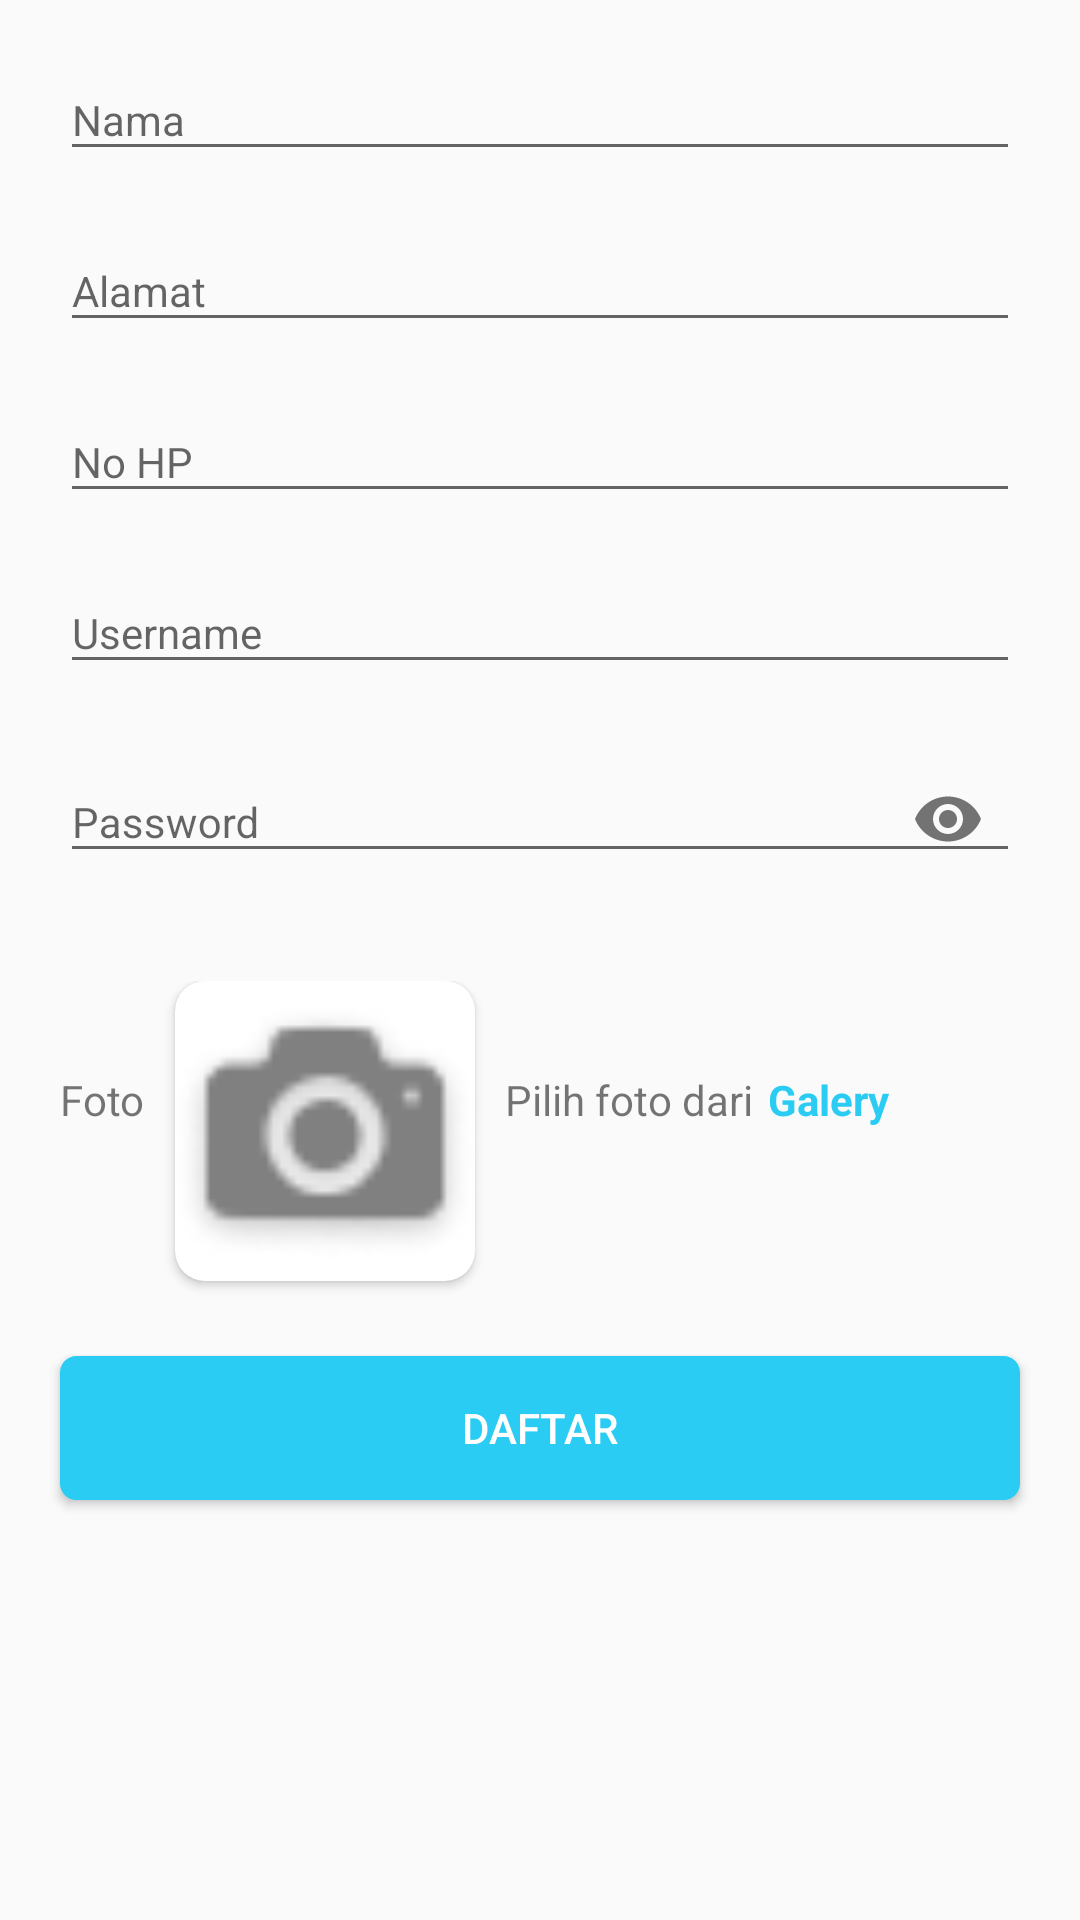

Icon bounding boxes for this 1080px×1920px phone screenshot, format (x1, y1, x2, y2):
camera: (175, 996, 475, 1281)
